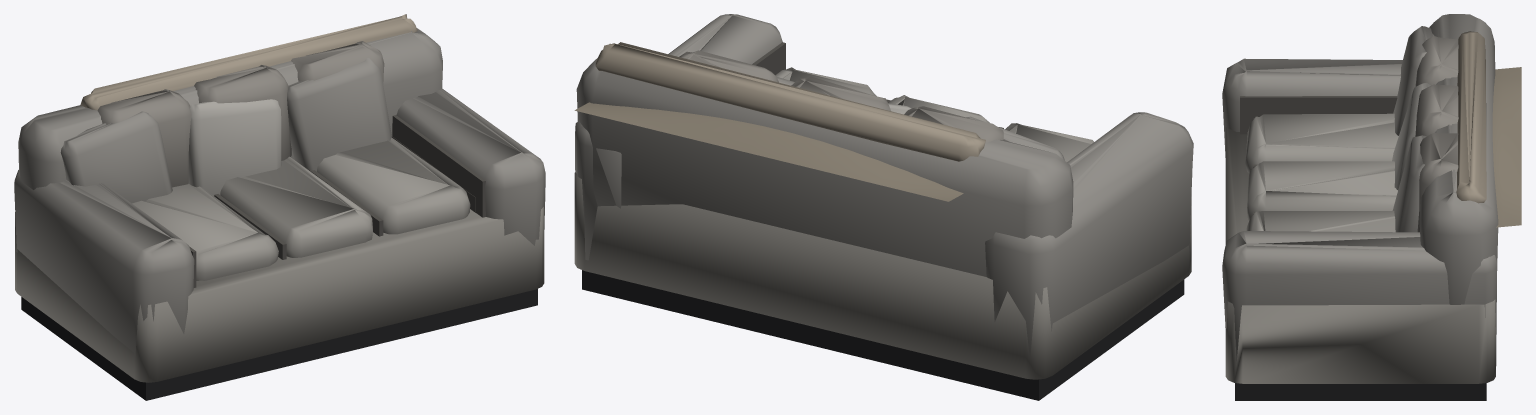
Rendered from sofa_e4.glb.
3 renders of one model, left to right at view 1: azimuth 30°, elevation 25°; view 2: azimuth 150°, elevation 25°; view 3: azimuth 270°, elevation 25°, orthographic. The views are drawn at different scales.
Visible parts, largest first — view 1: root; view 2: root; view 3: root.
Part boxes in pixels (x1,y1,x2,y2): root: [14, 14, 545, 400]; root: [574, 14, 1193, 400]; root: [1222, 14, 1521, 400].
Size of the model in its own units: 1.89 by 0.9202 by 1.18.
